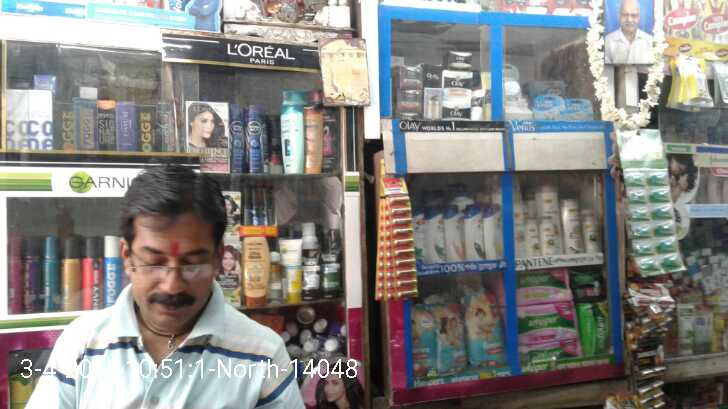venus: (506, 62, 526, 117), (565, 96, 594, 120), (533, 96, 563, 119)
